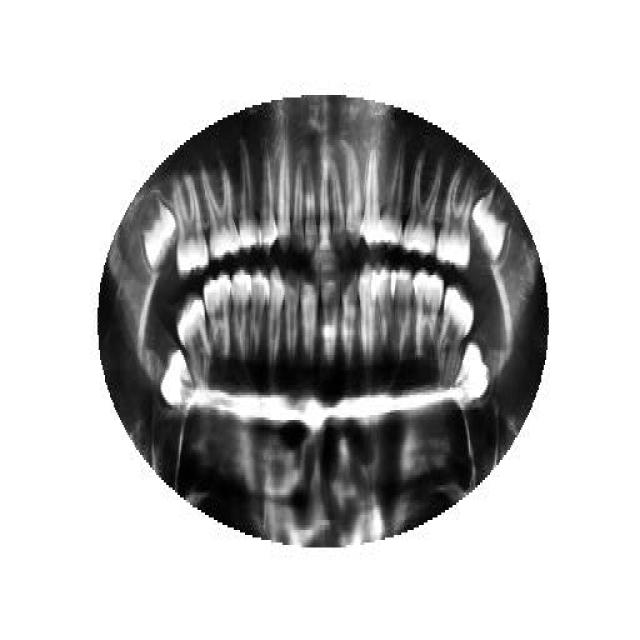Impacted Tooth: (472, 185, 516, 270), (140, 190, 180, 275)
